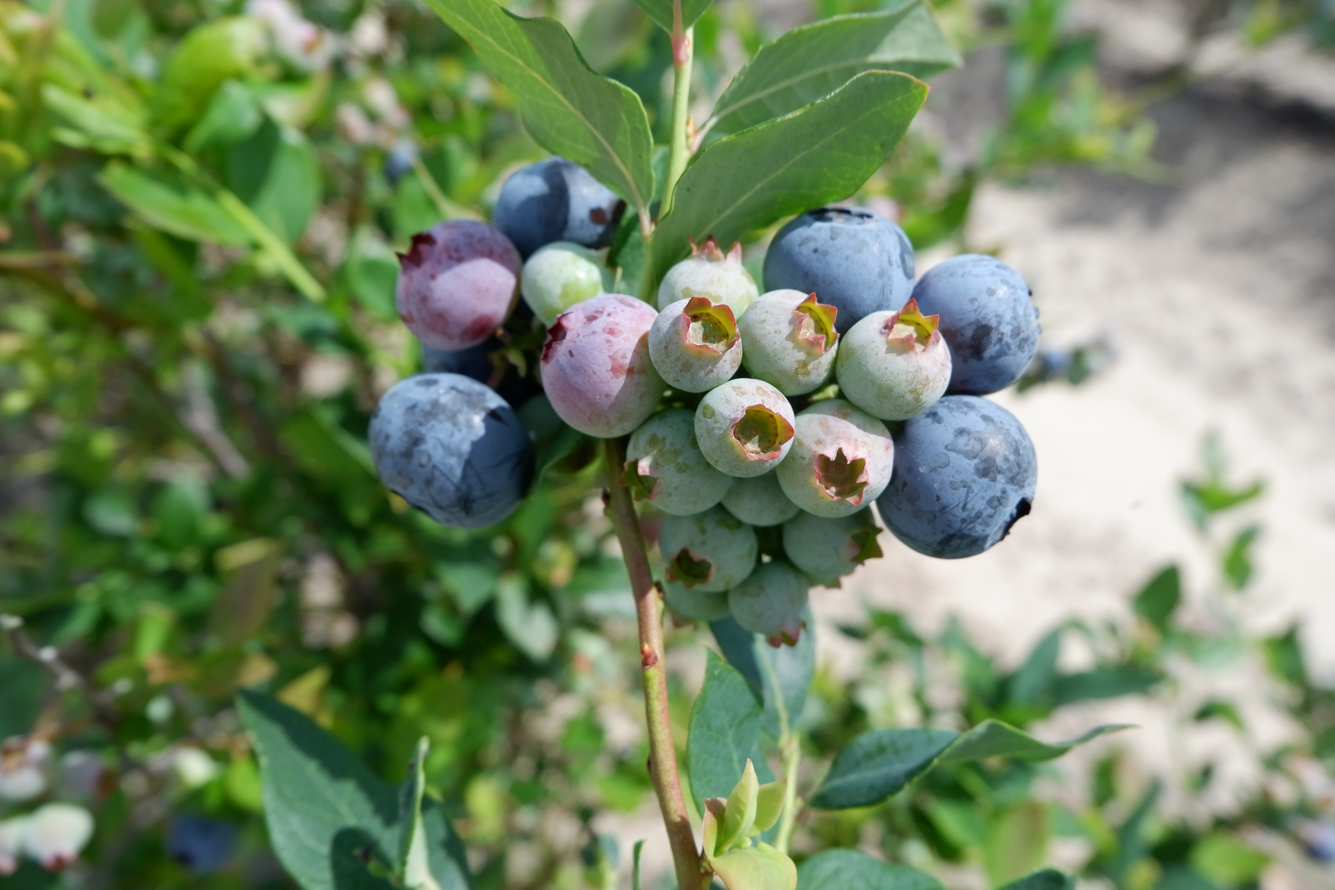Immature: (396, 219, 525, 352), (545, 296, 662, 435), (781, 400, 892, 516), (840, 308, 950, 418), (629, 411, 727, 515), (743, 291, 840, 392), (698, 381, 794, 476), (652, 296, 741, 389), (660, 508, 756, 590), (659, 239, 757, 314), (786, 509, 881, 583), (524, 245, 618, 319), (730, 562, 810, 646), (723, 469, 796, 524), (665, 579, 728, 620)
Mature: (371, 374, 532, 527), (879, 399, 1035, 554), (764, 209, 913, 328), (913, 258, 1038, 392), (492, 159, 618, 257), (419, 341, 499, 384)
